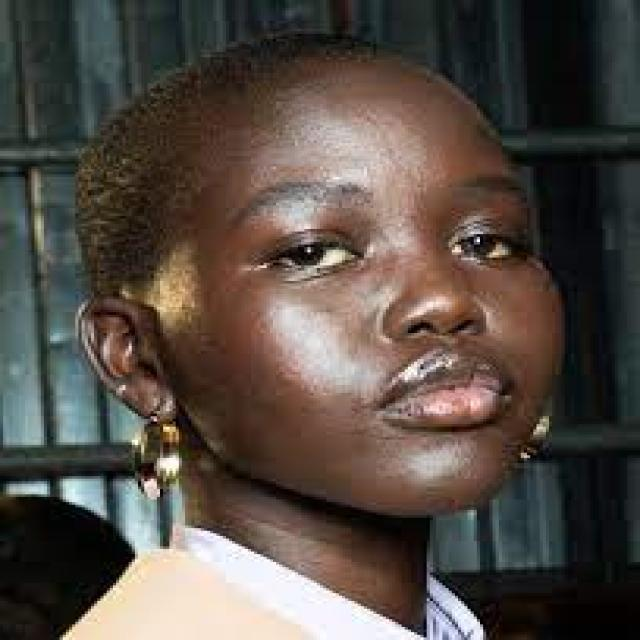oily: (240, 286, 388, 436), (276, 95, 488, 196)
